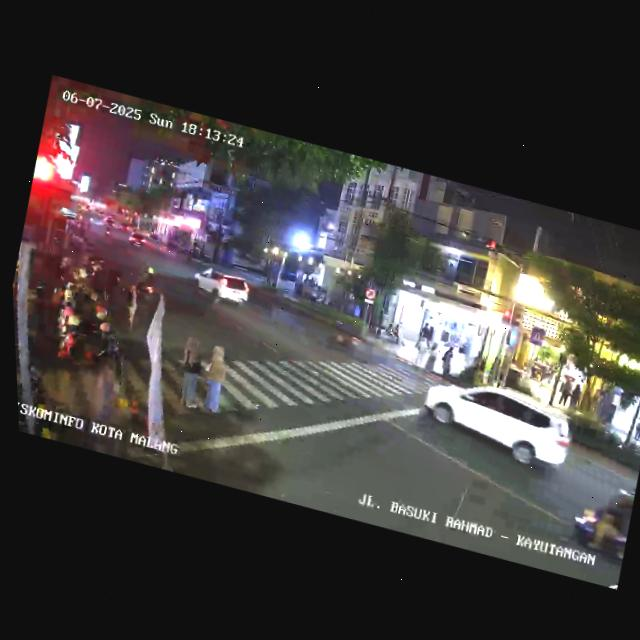car: (413, 368, 580, 480), (189, 263, 253, 312), (124, 228, 149, 251)
motorcycle: (561, 475, 639, 575), (325, 316, 365, 357)
person: (80, 341, 130, 432), (189, 341, 236, 419), (172, 333, 213, 410), (120, 282, 147, 331), (411, 335, 431, 371), (556, 374, 576, 409), (422, 339, 441, 375), (566, 378, 585, 412), (438, 344, 456, 377), (631, 414, 640, 444), (419, 321, 430, 338), (426, 325, 437, 342)
